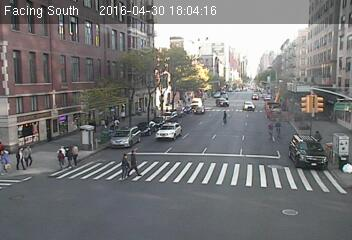neg: (191, 93, 208, 116), (203, 159, 219, 181), (276, 94, 292, 115), (300, 188, 316, 209), (163, 91, 177, 110), (270, 117, 284, 135), (243, 95, 257, 113), (271, 76, 284, 93), (227, 173, 239, 190), (138, 110, 148, 123), (217, 90, 226, 101)
pos: (122, 147, 145, 178), (116, 152, 137, 179), (11, 145, 31, 172), (67, 142, 84, 165), (53, 147, 70, 170), (22, 144, 38, 166), (218, 107, 233, 127)
